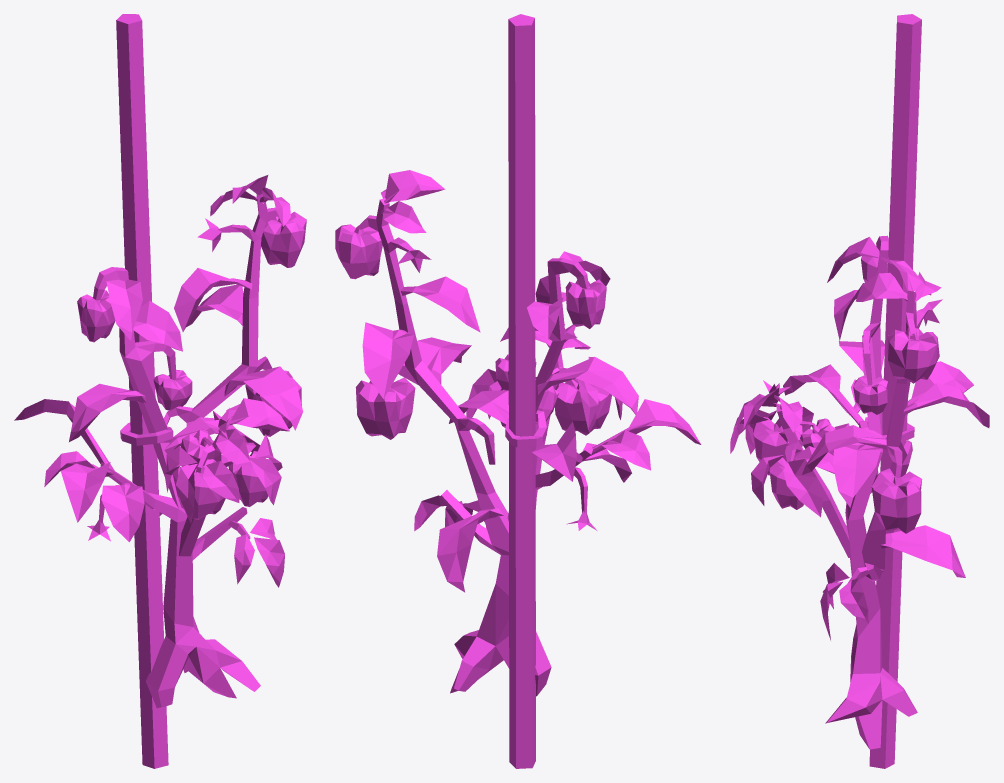
Rendered from SM_Bellpepper_Ripe.fbx.
3 renders of one model, left to right at view 1: azimuth 30°, elevation 25°; view 2: azimuth 150°, elevation 25°; view 3: azimuth 270°, elevation 25°, orthographic. The views are drawn at different scales.
Parts seen in each view (by area): view 1: SM_Bellpepper_Ripe; view 2: SM_Bellpepper_Ripe; view 3: SM_Bellpepper_Ripe.
Boxes of the visible parts, left/top/right/bottom form: SM_Bellpepper_Ripe: left=14, top=14, right=306, bottom=768; SM_Bellpepper_Ripe: left=335, top=14, right=701, bottom=768; SM_Bellpepper_Ripe: left=730, top=14, right=989, bottom=768.
Bounding box in the file's own units: 0.8525 × 2.07 × 0.6569.
